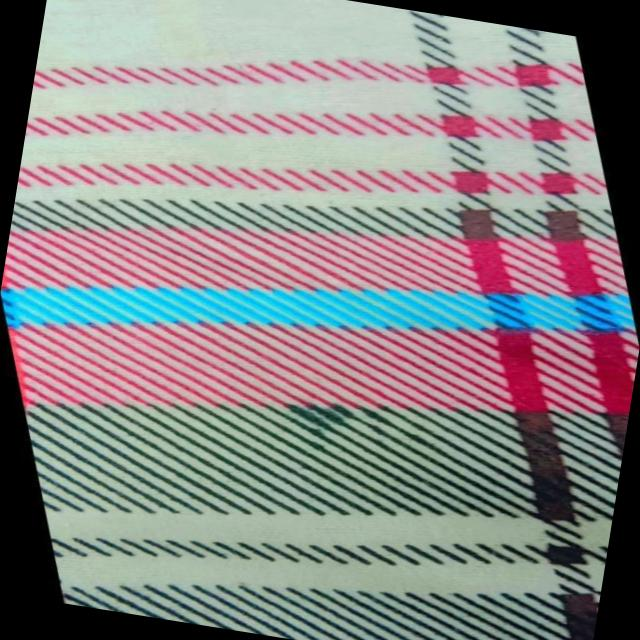stain: (256, 374, 408, 474)
